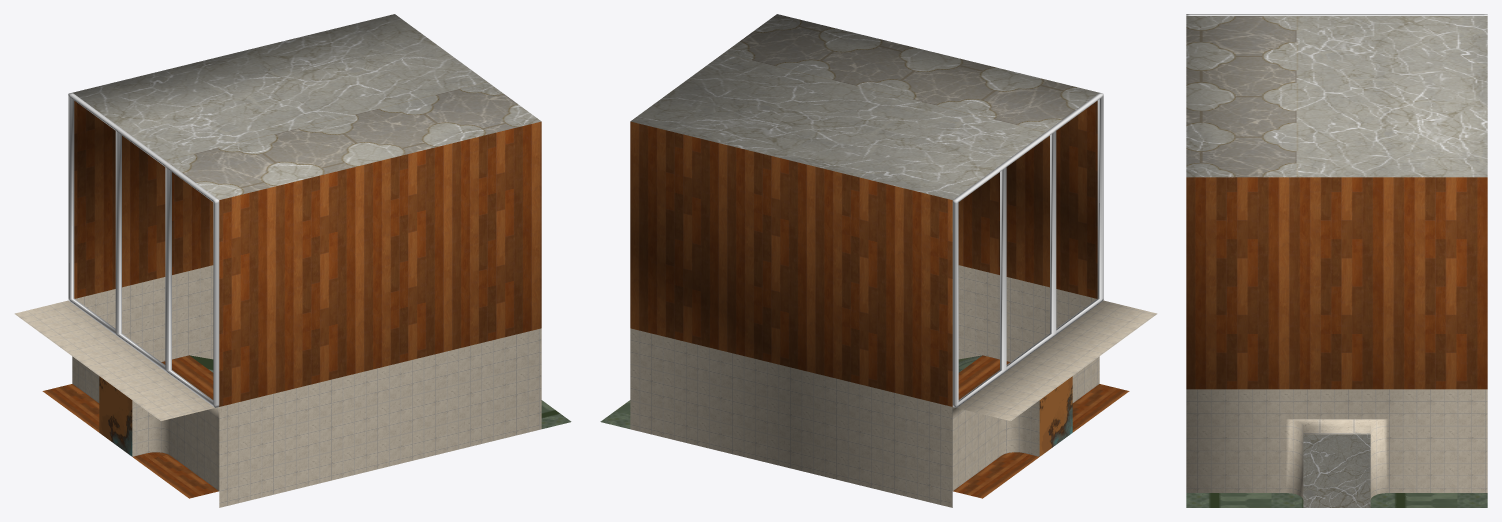
File: TutorialRoom.fbx
3 views of the same model, side by side, from view 1: azimuth 30°, elevation 25°; view 2: azimuth 150°, elevation 25°; view 3: azimuth 270°, elevation 25° (orthographic). The views are drawn at different scales.
Visible parts, largest first — view 1: Cube.001, Cube.015, Cube.016, Cube; view 2: Cube.001, Cube.015, Cube.016, Cube; view 3: Cube.001, Cube, Cube.016.
Boxes of the visible parts, left/top/right/bottom form: Cube.001: left=73, top=14, right=541, bottom=507; Cube.015: left=14, top=300, right=219, bottom=490; Cube.016: left=68, top=92, right=219, bottom=407; Cube: left=42, top=355, right=571, bottom=498; Cube.001: left=630, top=14, right=1098, bottom=507; Cube.015: left=952, top=300, right=1157, bottom=490; Cube.016: left=952, top=92, right=1103, bottom=407; Cube: left=600, top=355, right=1129, bottom=498; Cube.001: left=1186, top=16, right=1487, bottom=507; Cube: left=1186, top=493, right=1487, bottom=507; Cube.016: left=1186, top=14, right=1487, bottom=15.
Size of the model in its own units: 9857 by 7058 by 6104.
